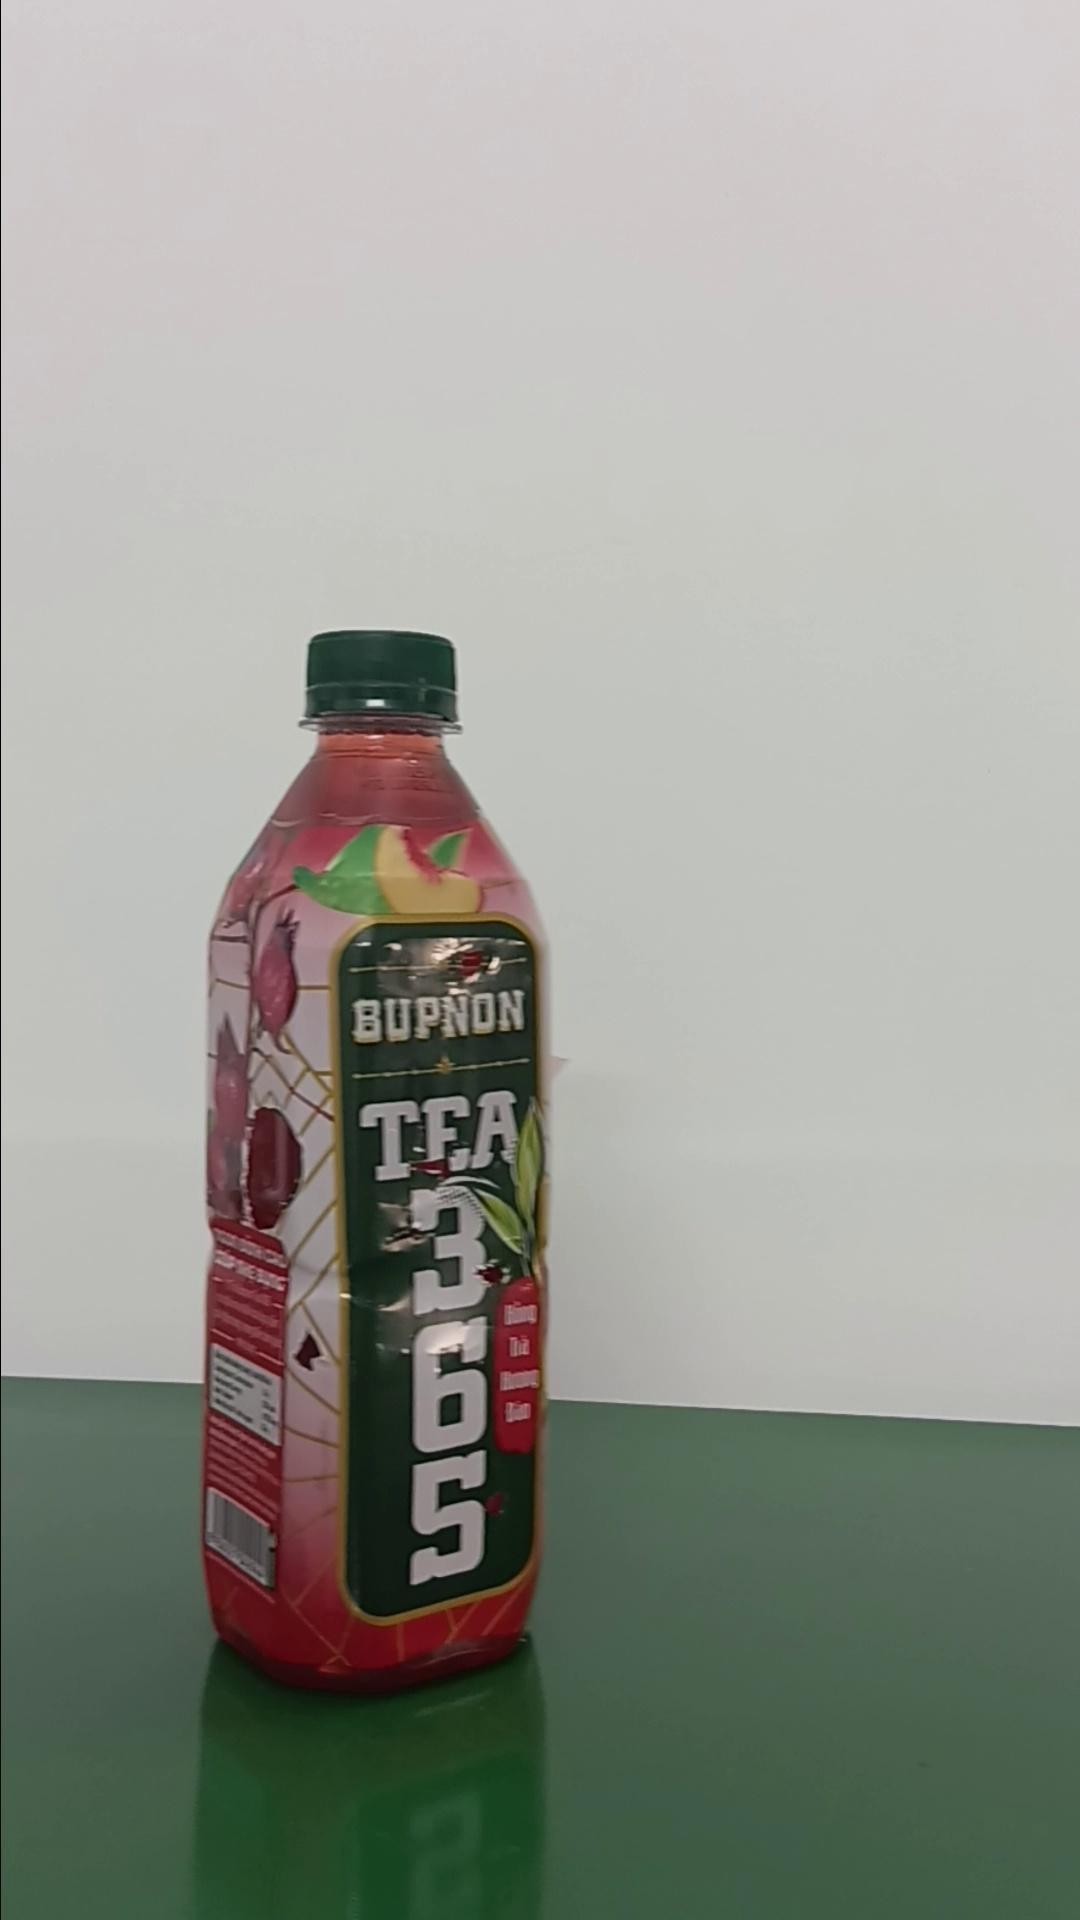loi rach va lap chai: (202, 625, 549, 1708)
